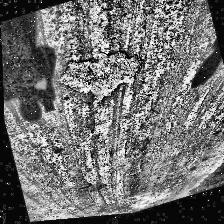pothole: (52, 41, 150, 117)
